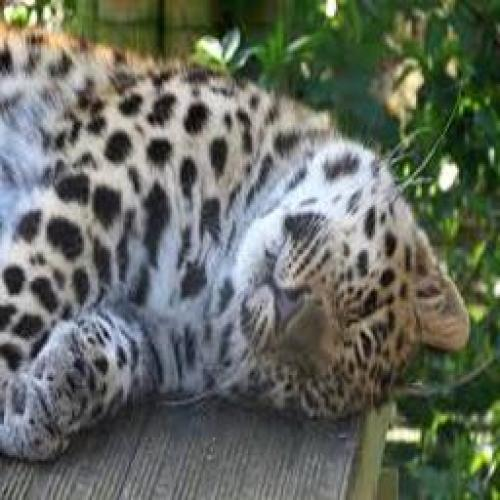amur_leopard-endangered: (0, 22, 472, 462)
